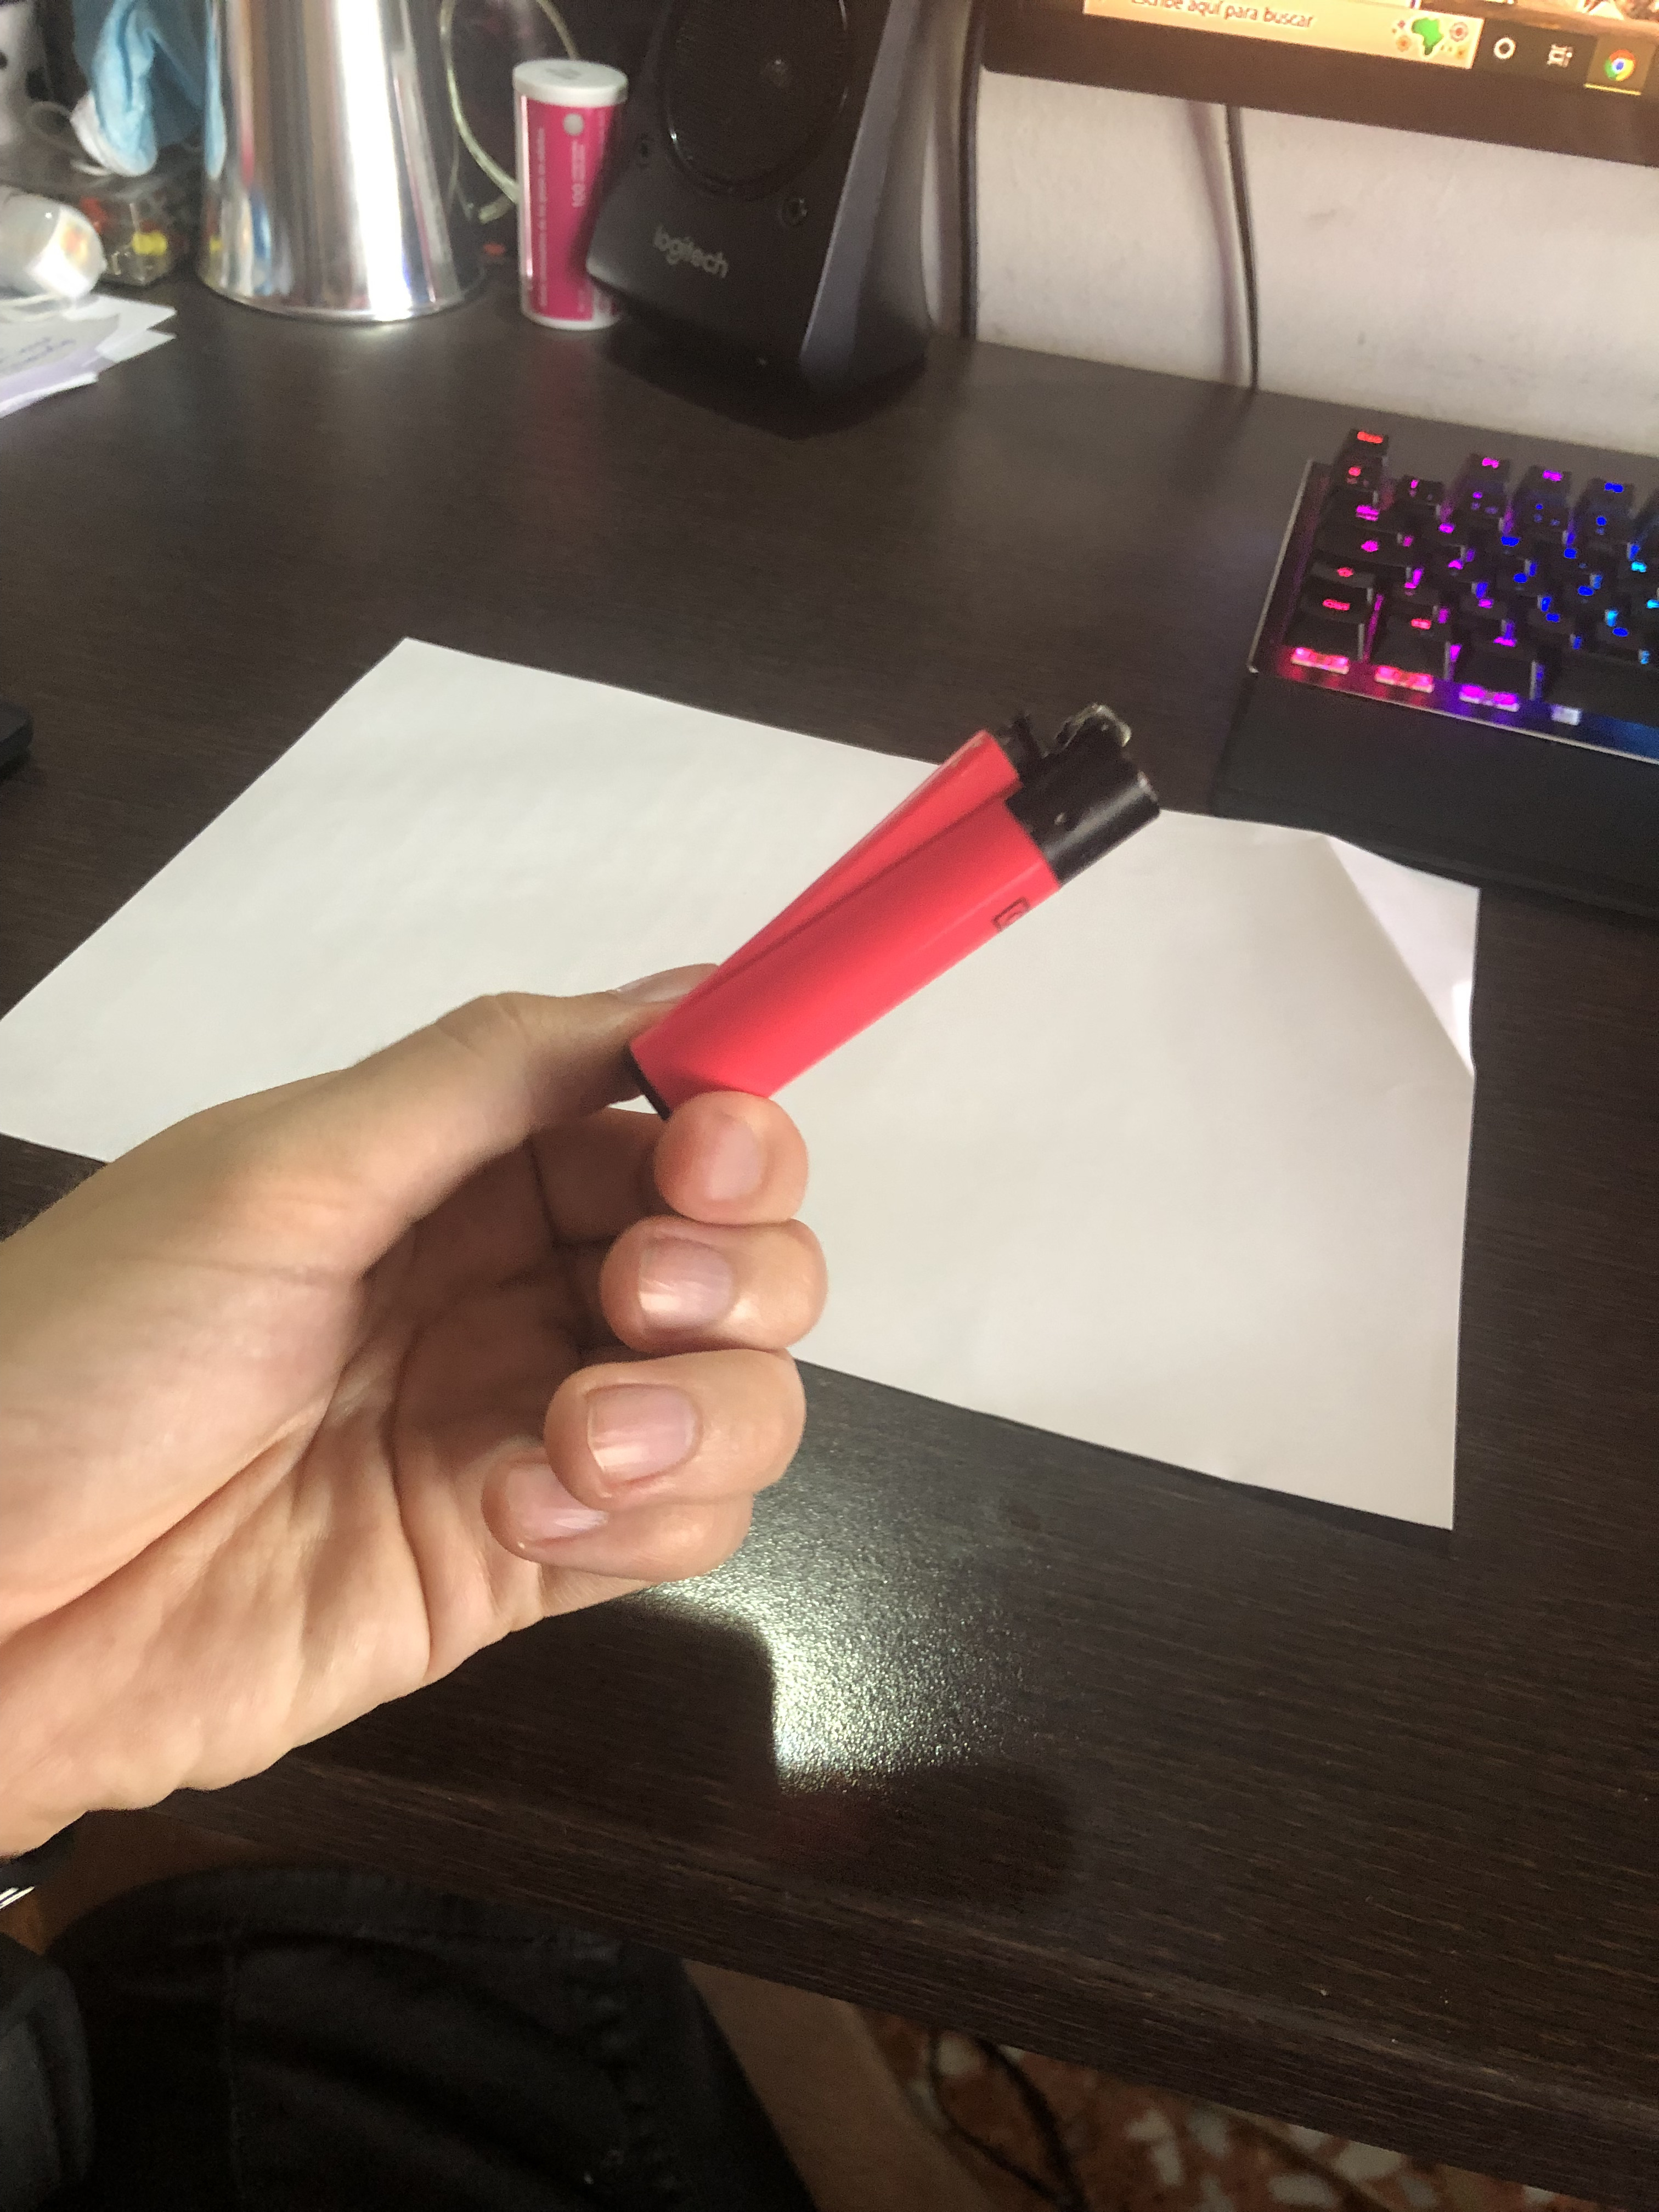Mechero: (606, 704, 1161, 1169)
